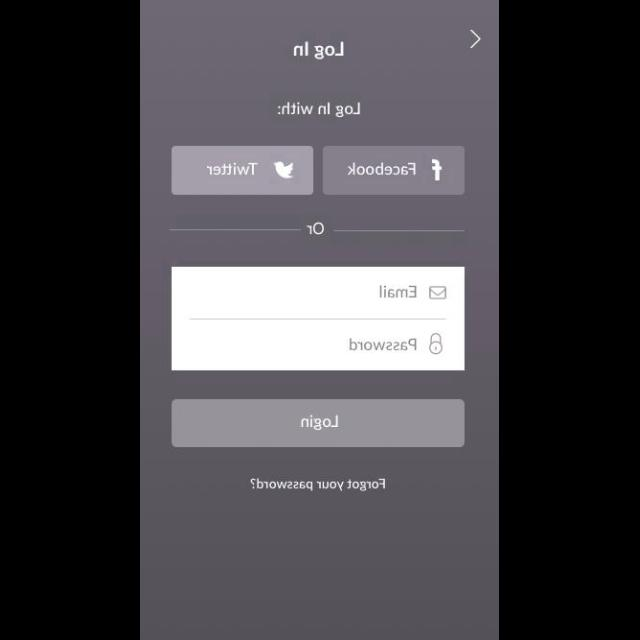icon: (430, 334, 442, 356), (429, 288, 446, 300), (471, 30, 482, 48)
input: (172, 268, 464, 320), (172, 320, 464, 370)
text: (278, 103, 362, 119), (294, 41, 344, 60), (349, 339, 416, 351), (379, 286, 416, 298), (306, 222, 324, 235)
textbutton: (171, 400, 465, 448), (322, 147, 464, 196), (172, 147, 314, 196), (251, 478, 387, 492)
